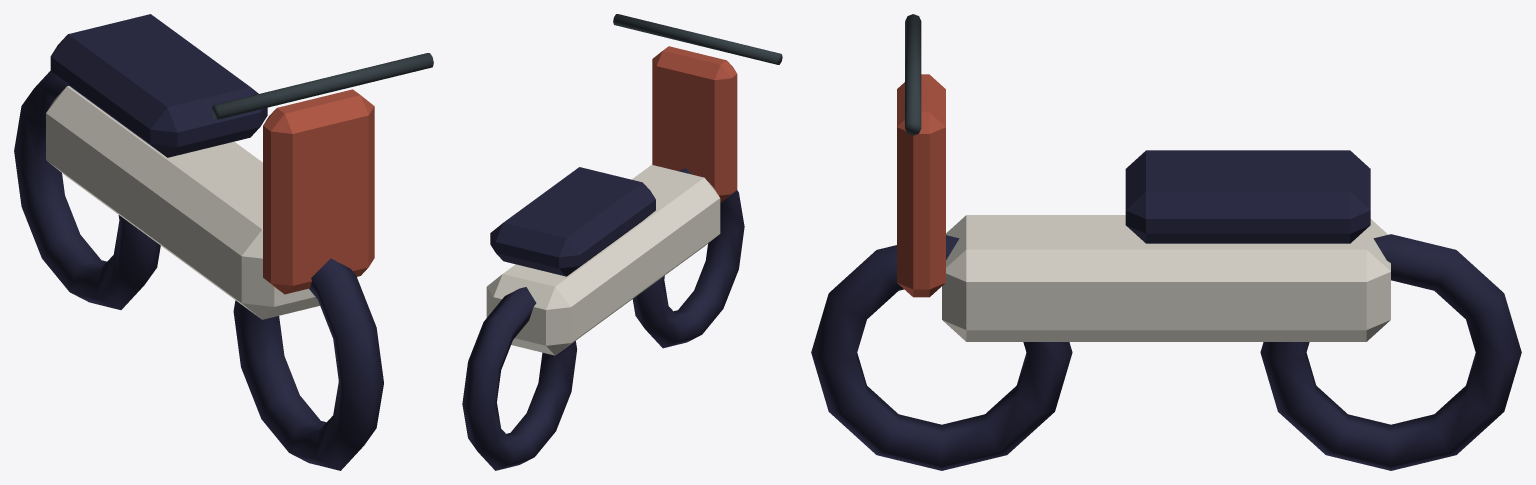
The model's file is motorbike.glb.
The picture shows the model from 3 angles, left to right: view 1: azimuth 30°, elevation 25°; view 2: azimuth 150°, elevation 25°; view 3: azimuth 270°, elevation 25°; orthographic projection. The views are drawn at different scales.
Visible parts, largest first — view 1: motorbike; view 2: motorbike; view 3: motorbike.
Boxes of the visible parts, bbox=[...] form: motorbike: bbox=[14, 14, 433, 470]; motorbike: bbox=[462, 14, 782, 470]; motorbike: bbox=[811, 14, 1521, 470].
Bounding box in the file's own units: 0.6201 × 1.09 × 1.74.
